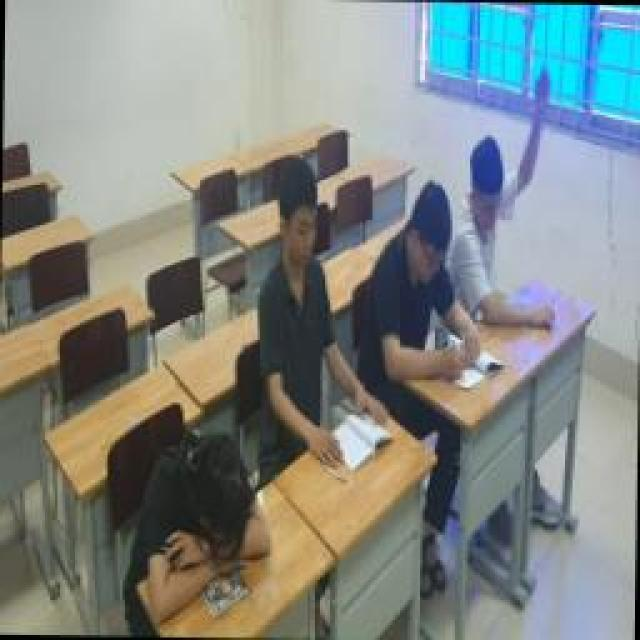sleep: (125, 433, 273, 605)
study: (260, 160, 385, 475), (460, 70, 568, 330), (368, 182, 490, 390)
